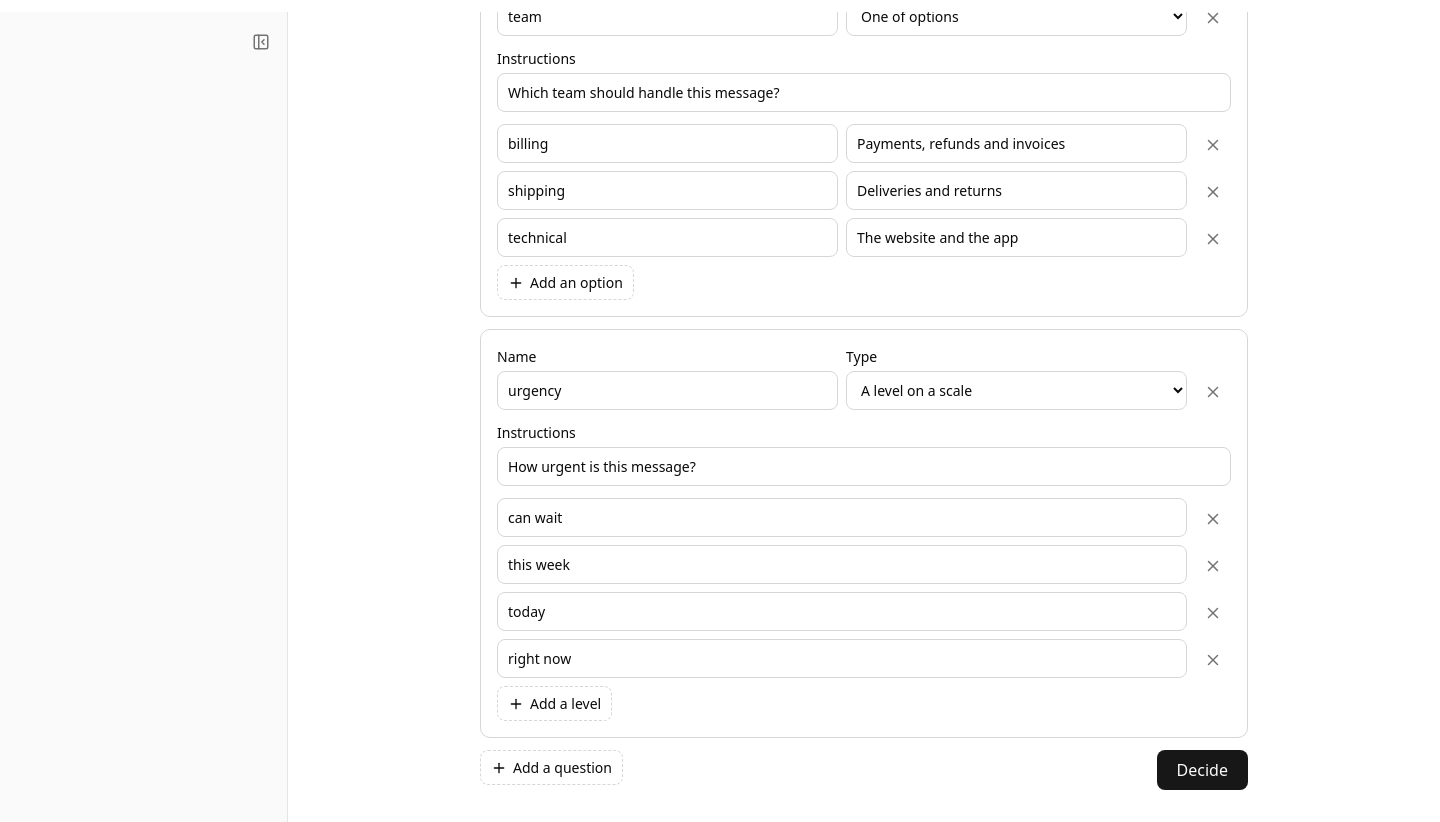
Scenario: the page opens with an example, and its answers come back as bars
(page scrolled)
What coordinates should you click on to do the following:
click the button "Decide"
I would click on:
 (1202, 770)
Its box is [1157,750,1248,790].
(page scrolled)
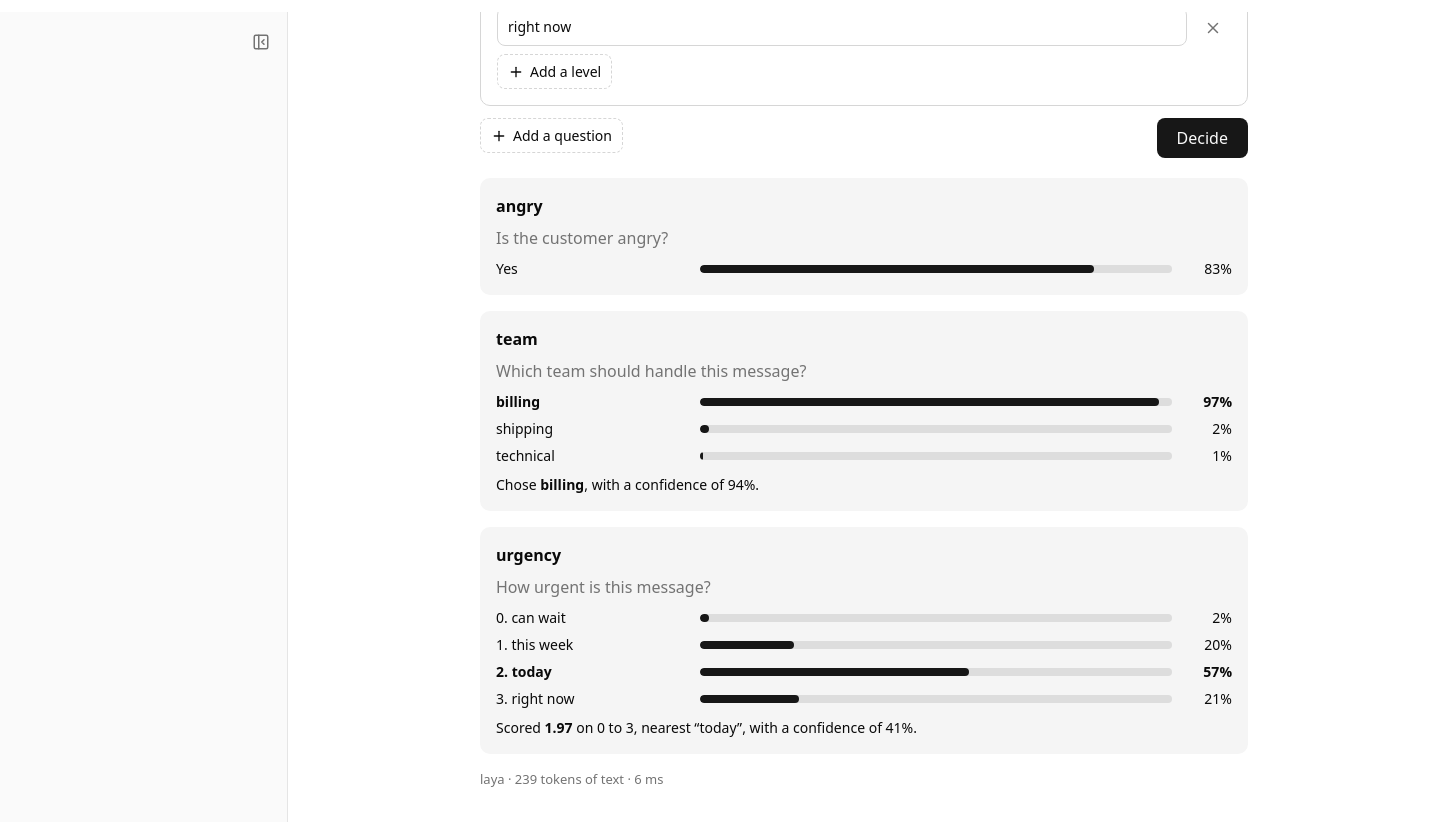
Expected: the list items read "billing97%", "shipping2%", "technical1%", in this order, [496,391,1232,412]; [496,418,1232,439]; [496,445,1232,466]
Expected: the element "team" shows "Chose billing, with a confidence of 94%.", [480,311,1248,511]
Expected: the element "urgency" shows "Scored 1.97 on 0 to 3, nearest “today”, with a confidence of 41%.", [480,527,1248,754]
